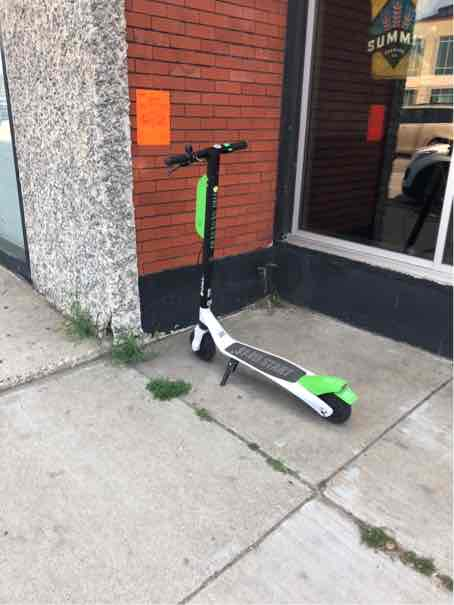scooter: (159, 133, 362, 427)
